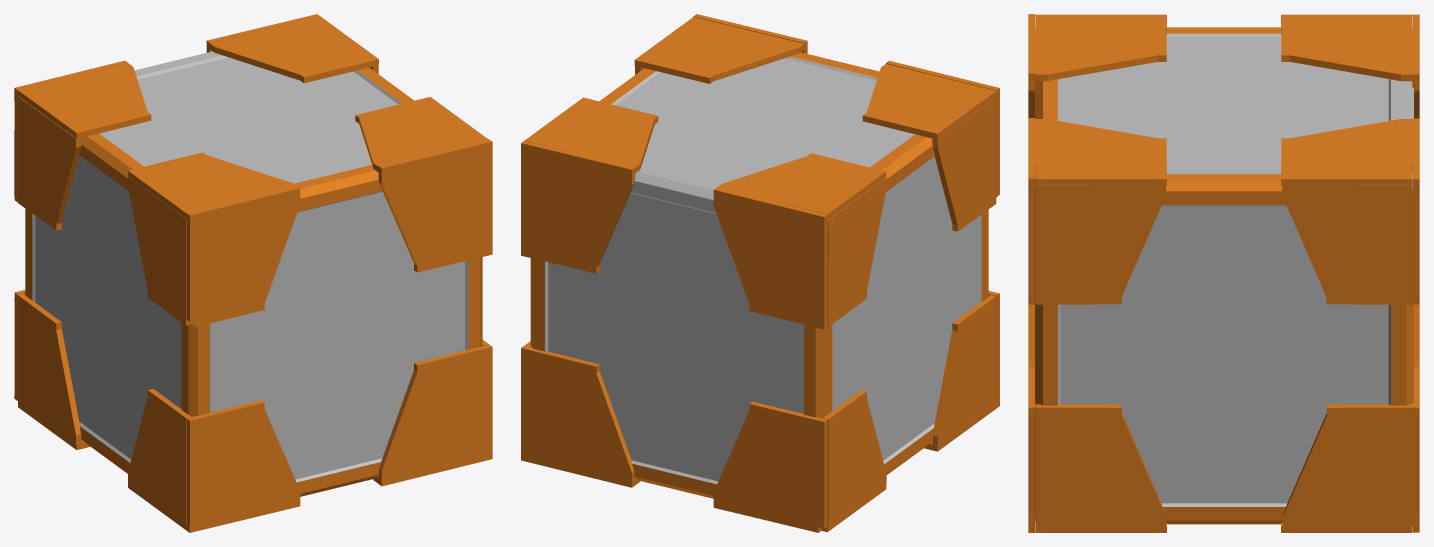
3 views of the same model, side by side, from view 1: azimuth 30°, elevation 25°; view 2: azimuth 150°, elevation 25°; view 3: azimuth 270°, elevation 25° (orthographic). The views are drawn at different scales.
Visible parts, largest first — view 1: Cube; view 2: Cube; view 3: Cube.
Part boxes in pixels (x1,y1,x2,y2): Cube: (14, 14, 492, 532); Cube: (521, 14, 999, 532); Cube: (1028, 14, 1419, 532).
Size of the model in its own units: 90.63 by 90.88 by 90.77.
